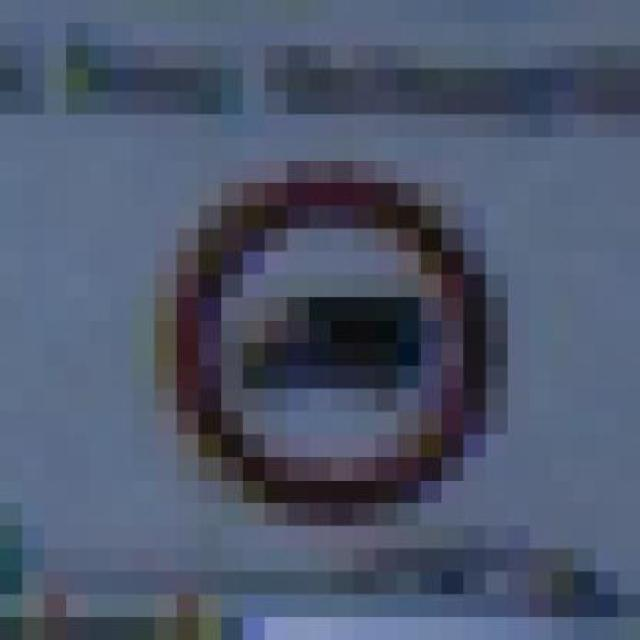Truck traffic is prohibited: (132, 114, 530, 526)
